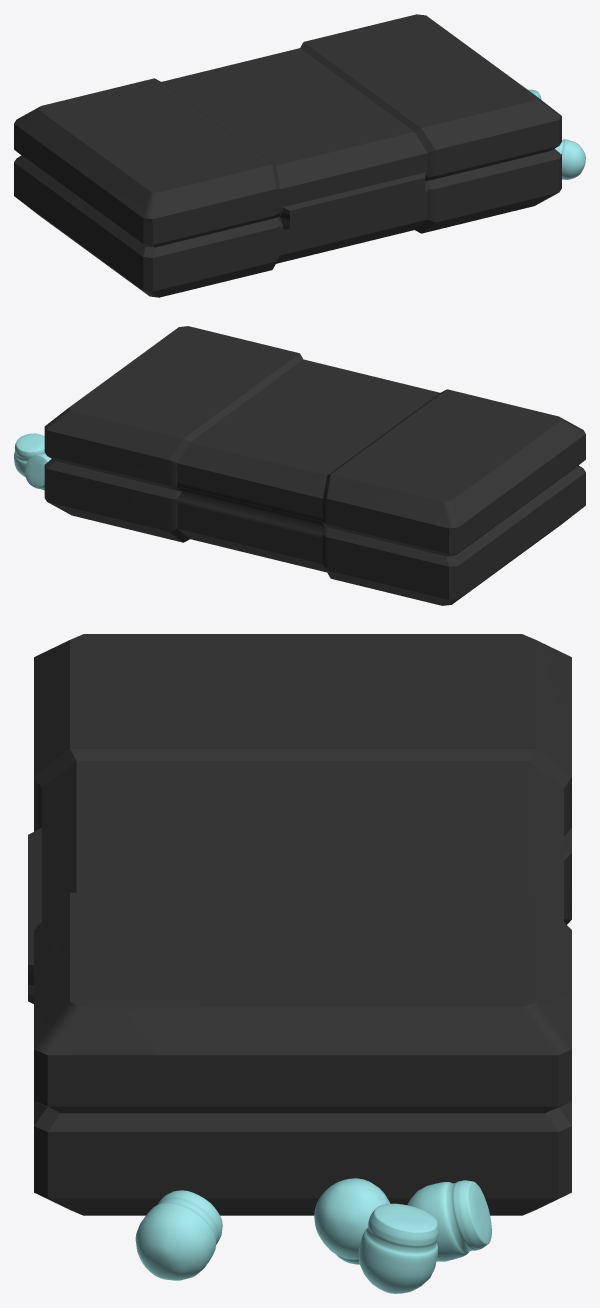
File: BATTERY.fbx
3 renders of one model, top to bottom at view 1: azimuth 30°, elevation 25°; view 2: azimuth 150°, elevation 25°; view 3: azimuth 270°, elevation 25°, orthographic. The views are drawn at different scales.
Parts seen in each view (by area): view 1: polySurface6; view 2: polySurface6; view 3: polySurface6.
Part boxes in pixels (x1=…): polySurface6: x1=14, y1=14, x2=585, y2=297; polySurface6: x1=14, y1=326, x2=585, y2=605; polySurface6: x1=28, y1=634, x2=571, y2=1293.
Bounding box in the file's own units: 6.22 × 1.36 × 3.04.
